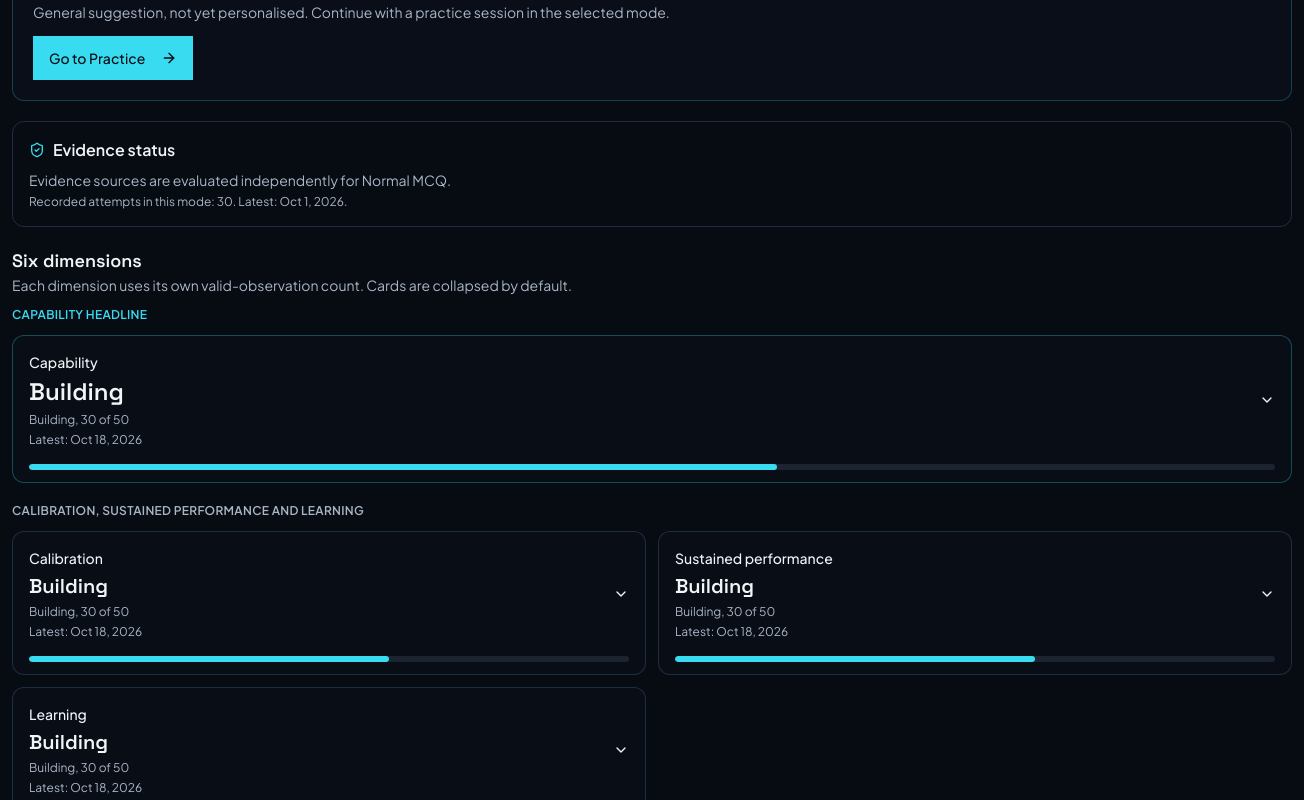
Test case: /intelligence target evidence gates › keeps dimension cards collapsed by default and exposes the valid-observation progress
(page scrolled)
Click the button "Capability Building Building, 30 of 50 Latest: Oct 18, 2026" at (652,400), box [13,336,1291,464]
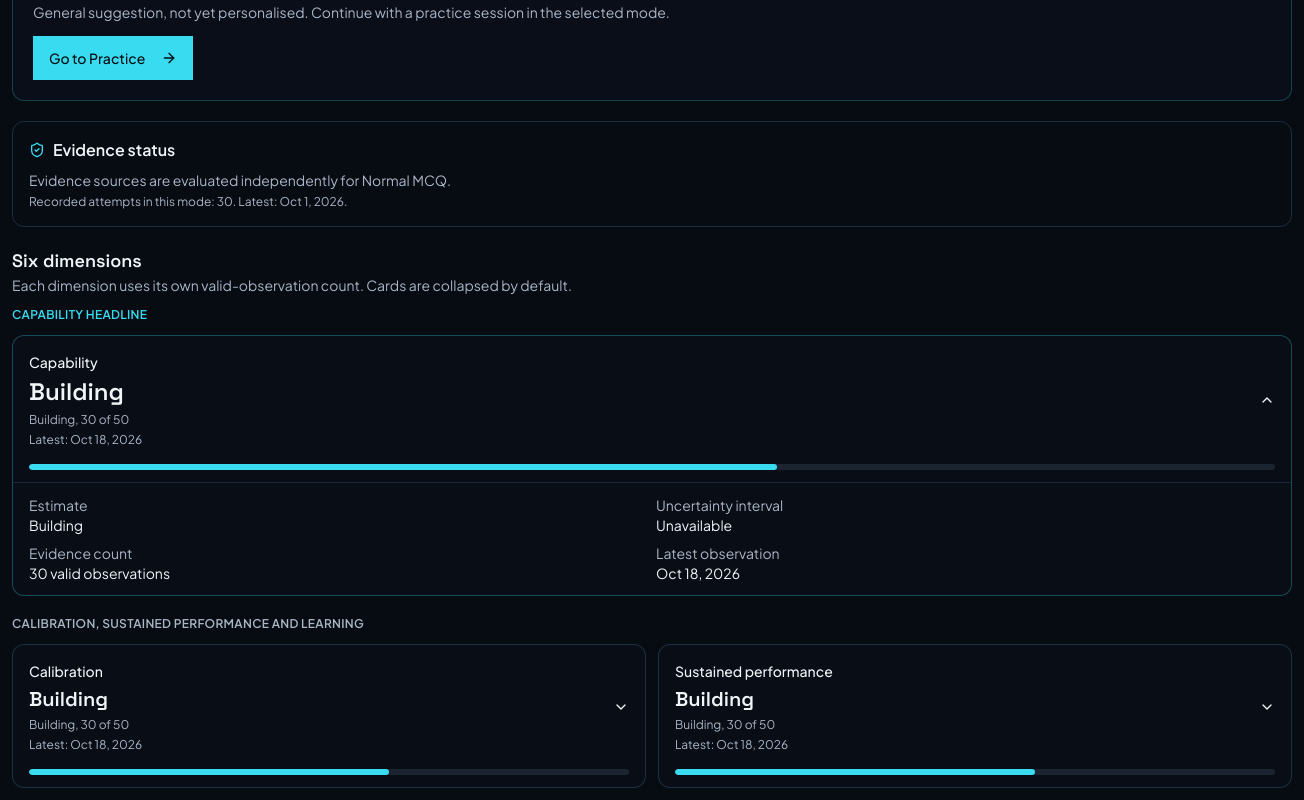
Now the text "Uncertainty interval" is shown, box [656,496,783,514]
